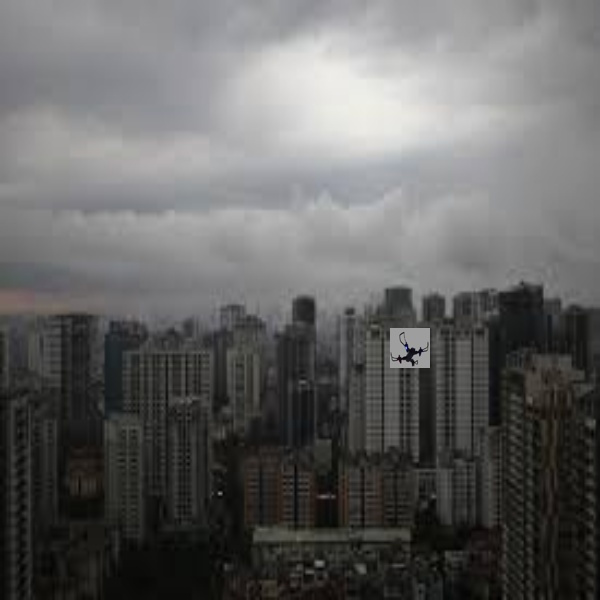drone: (386, 327, 433, 372)
